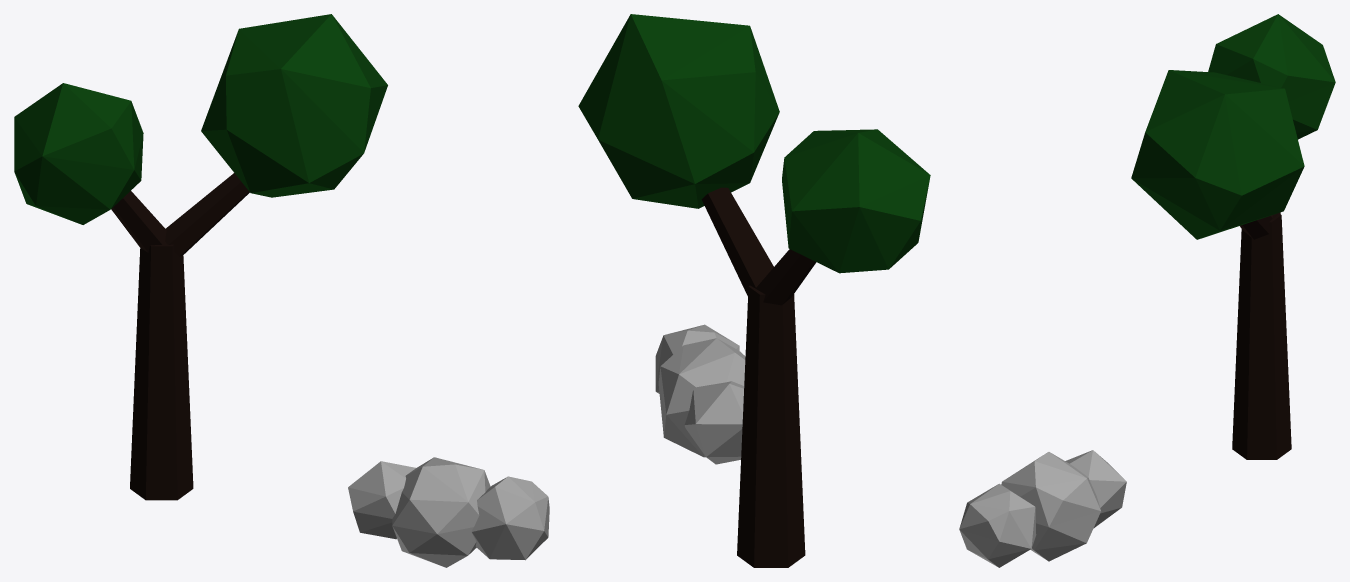
The model's file is trees2.obj.
3 renders of one model, left to right at view 1: azimuth 30°, elevation 25°; view 2: azimuth 150°, elevation 25°; view 3: azimuth 270°, elevation 25°, orthographic. The views are drawn at different scales.
Visible parts, largest first — view 1: Cylinder_Cylinder.004, Icosphere_Icosphere.003; view 2: Cylinder_Cylinder.004, Icosphere_Icosphere.003; view 3: Cylinder_Cylinder.004, Icosphere_Icosphere.003.
Boxes of the visible parts, <box> form: Cylinder_Cylinder.004: <box>14,14,387,500</box>; Icosphere_Icosphere.003: <box>348,457,549,567</box>; Cylinder_Cylinder.004: <box>578,14,930,567</box>; Icosphere_Icosphere.003: <box>655,324,745,464</box>; Cylinder_Cylinder.004: <box>1131,14,1335,459</box>; Icosphere_Icosphere.003: <box>959,450,1126,567</box>.
Size of the model in its own units: 8.02 by 9.46 by 7.15.
